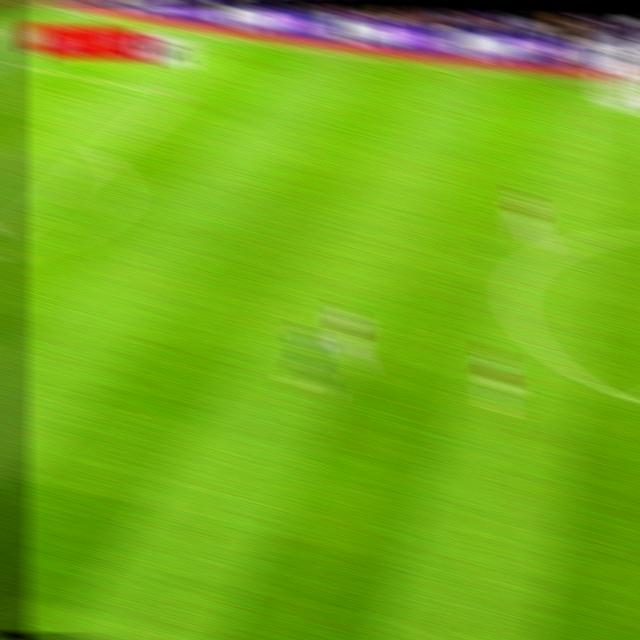bigarea_top_inner: (160, 81, 192, 107)
corner: (36, 0, 69, 18)
top_arc_area_intersection: (86, 142, 117, 168)
